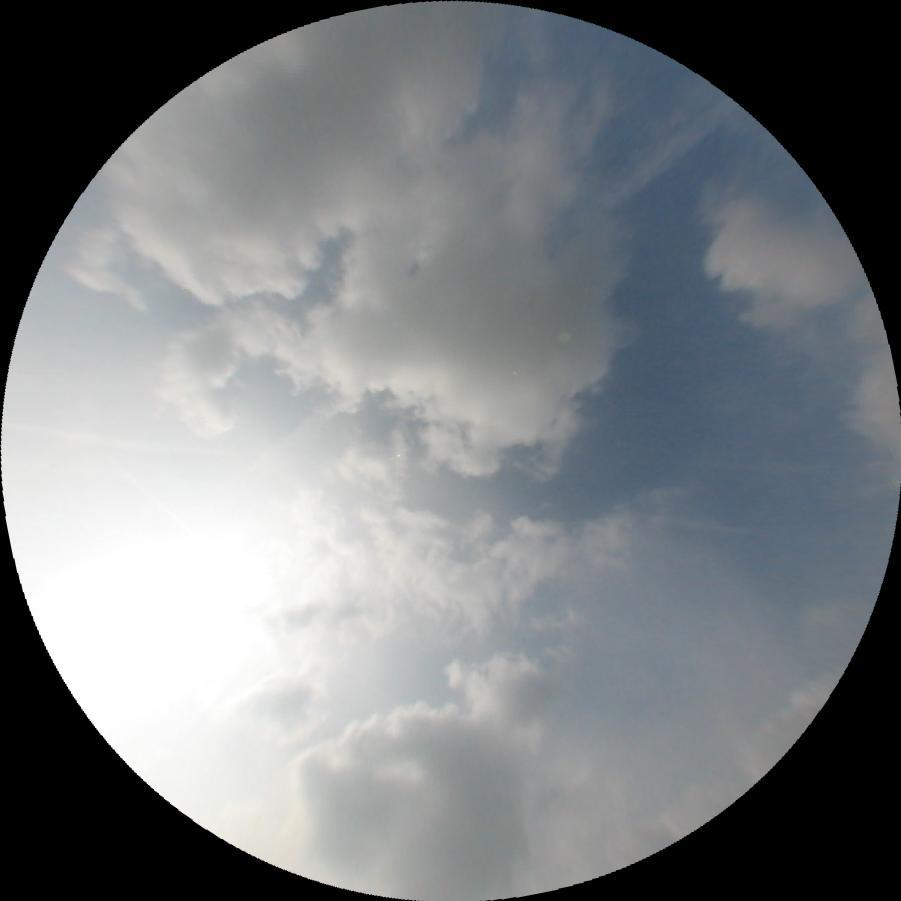contrail veryold: (196, 85, 741, 518), (697, 459, 814, 470)
contrail young: (97, 443, 181, 531)
unknow: (2, 417, 238, 466), (633, 509, 790, 539)
